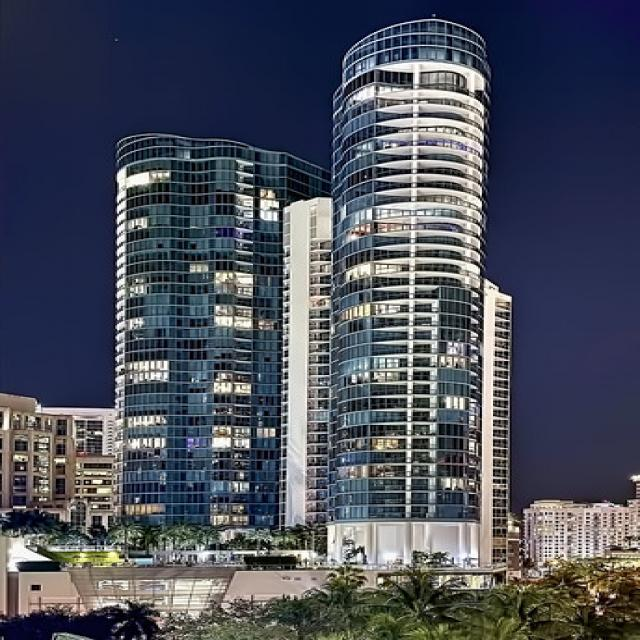Normal_building: (319, 9, 496, 577), (96, 116, 315, 568)
